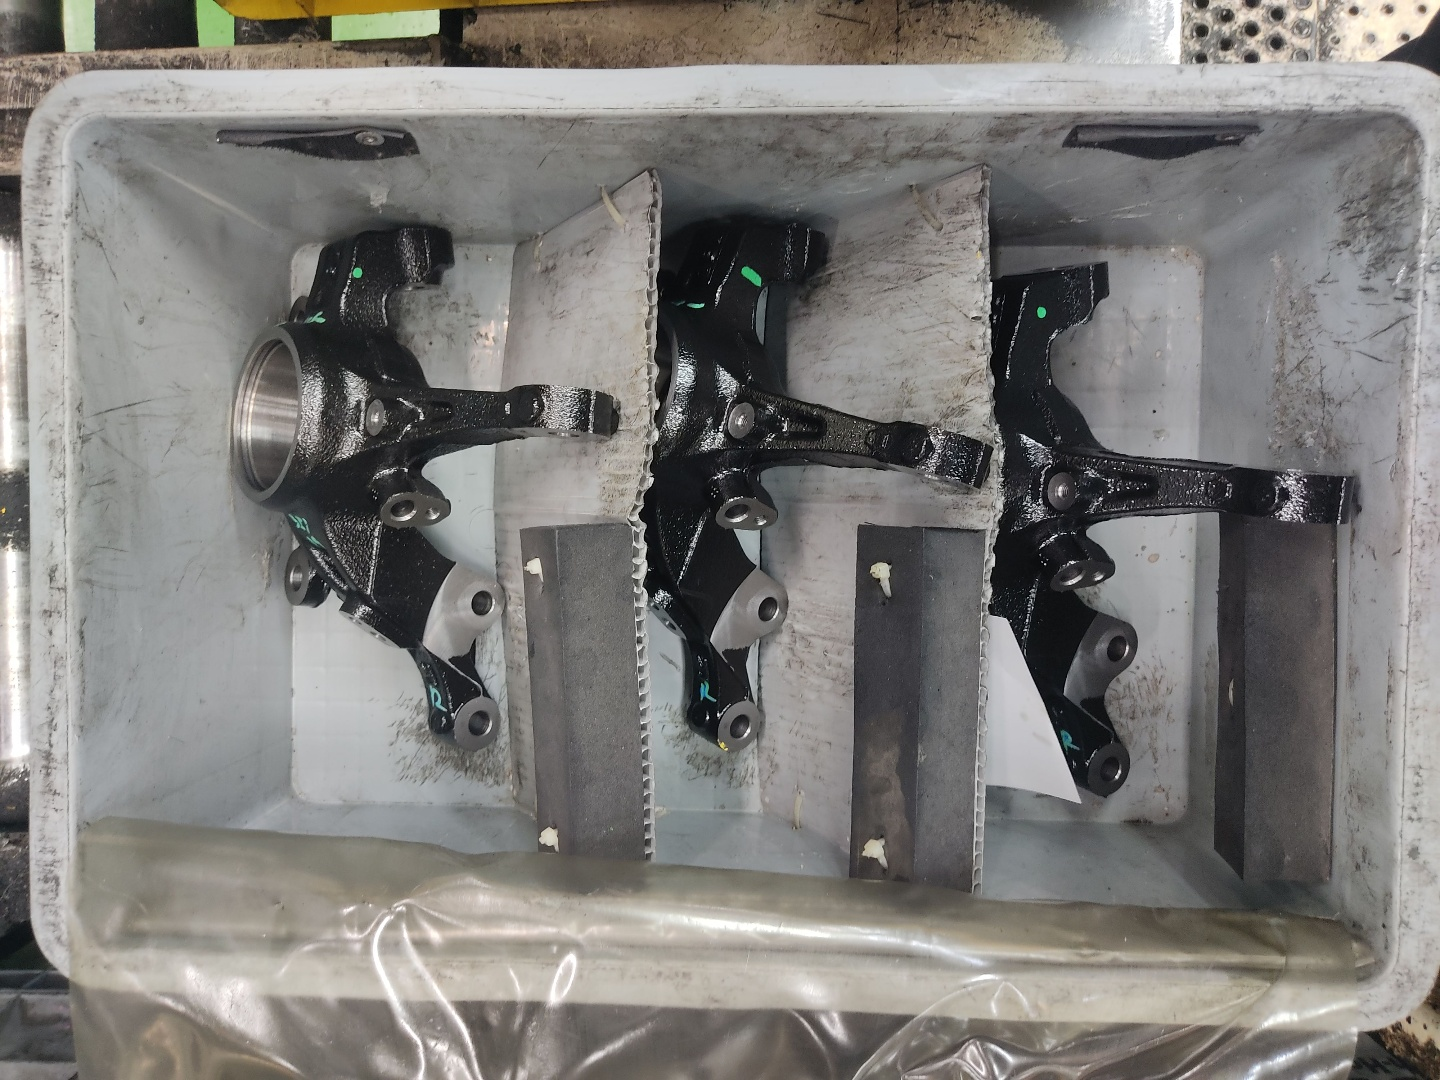abs-rh: (225, 213, 626, 759), (993, 250, 1367, 811), (642, 203, 997, 759)
